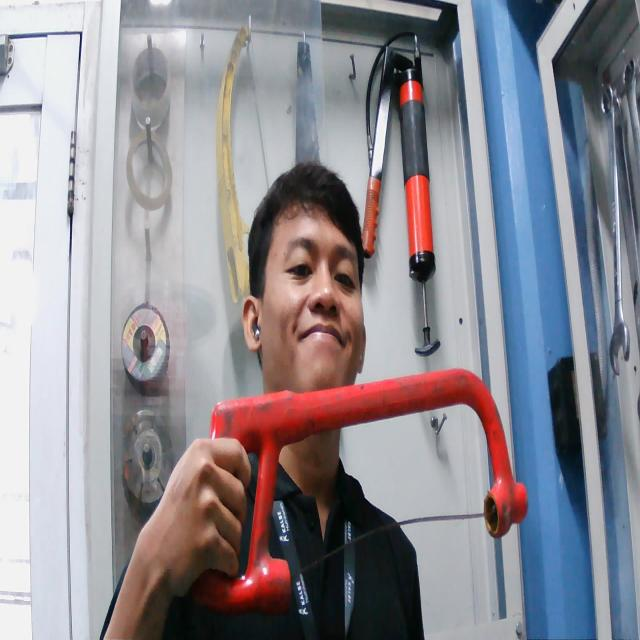gergaji_besi: (192, 368, 528, 614)
